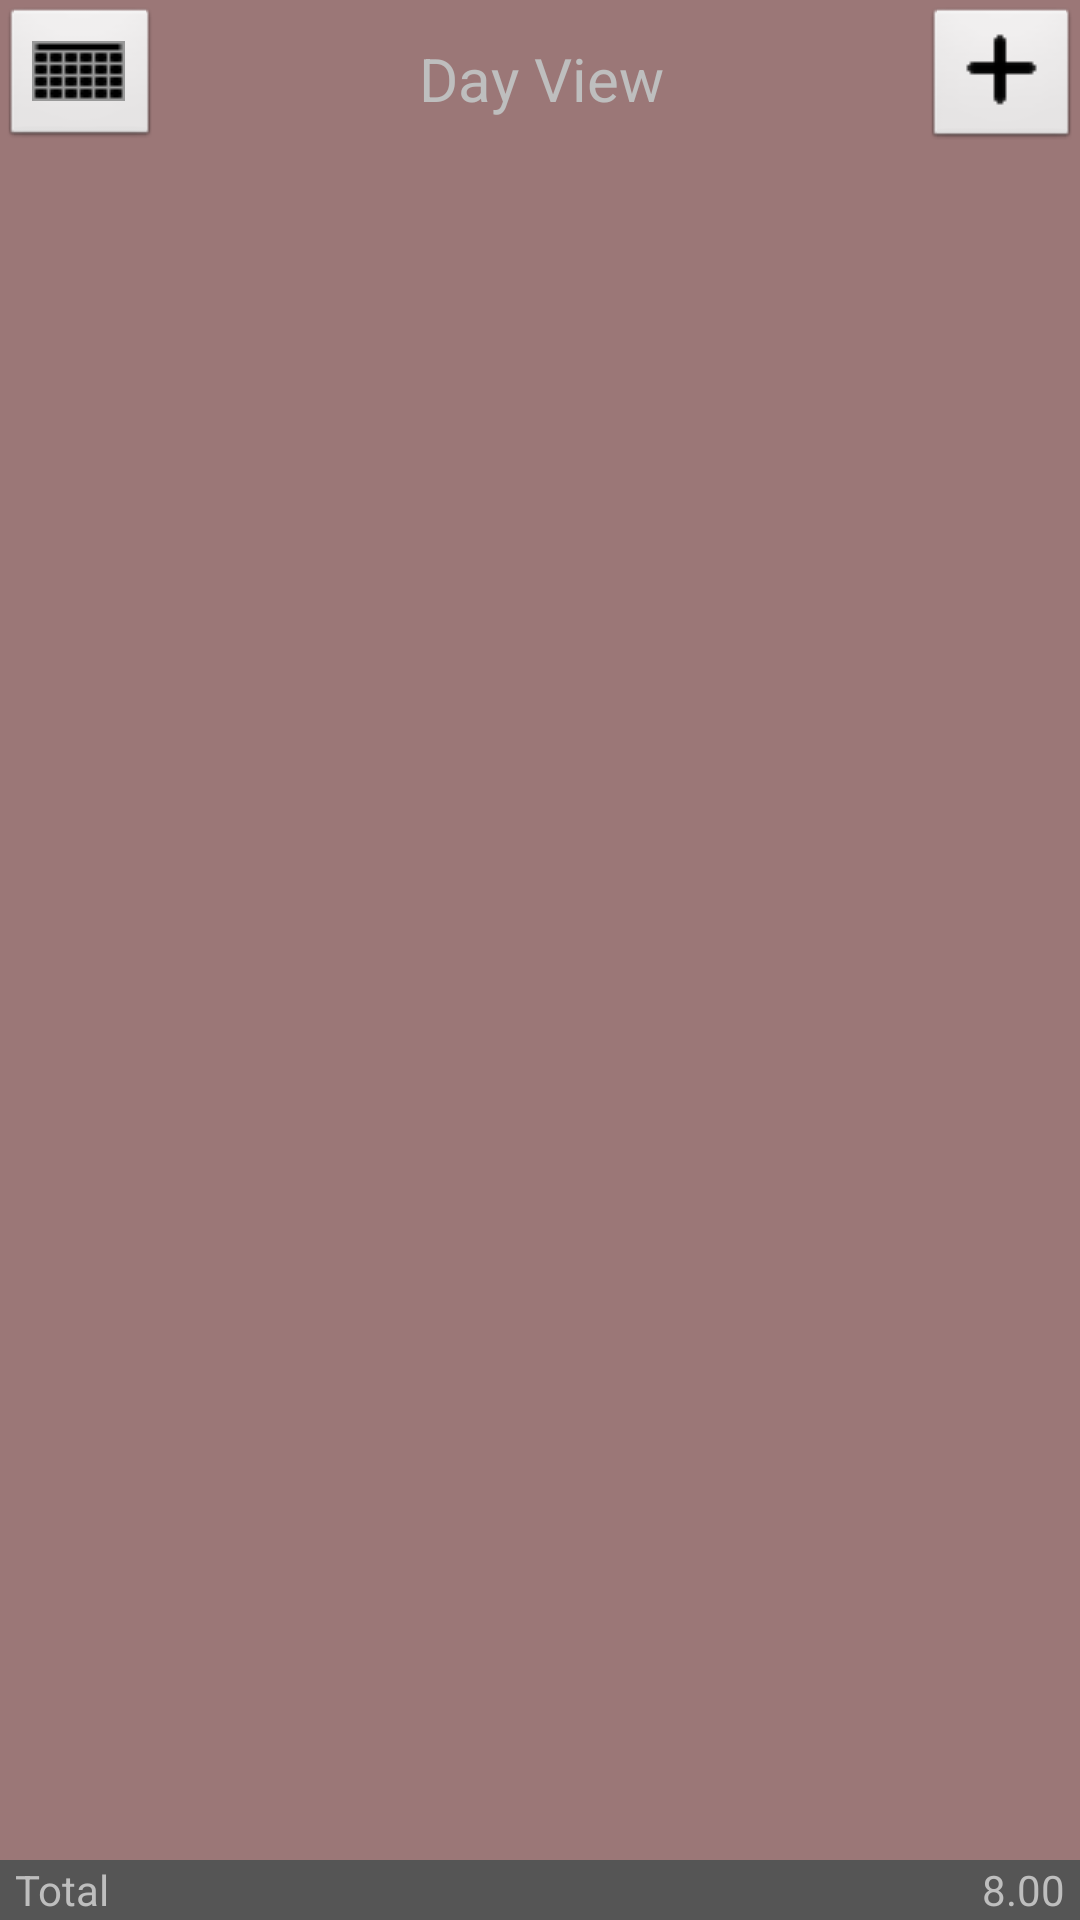

Screen size 1080w x 1920h. Icon name, then its center in pixels as (x,y):
calendar: (79,72)
plus: (1001,73)
